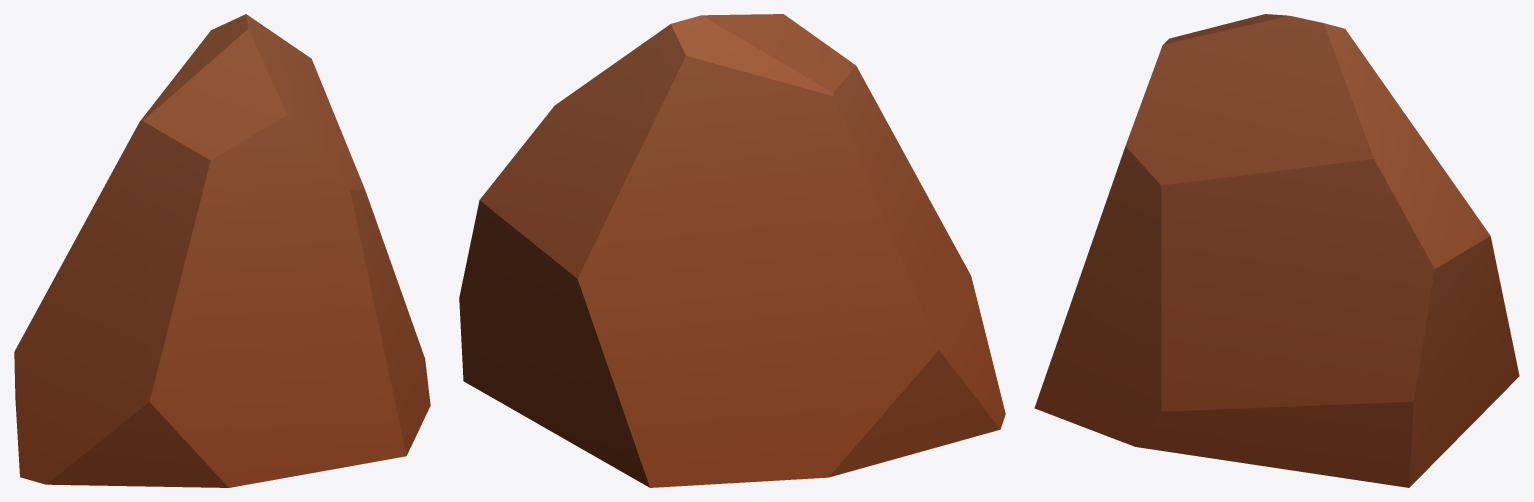
The model's file is rock07.fbx.
3 views of the same model, side by side, from view 1: azimuth 30°, elevation 25°; view 2: azimuth 150°, elevation 25°; view 3: azimuth 270°, elevation 25° (orthographic). The views are drawn at different scales.
Visible parts, largest first — view 1: Rock07; view 2: Rock07; view 3: Rock07.
Boxes of the visible parts, x1,y1,x2,y2 form: Rock07: (14, 14, 430, 487); Rock07: (459, 14, 1005, 487); Rock07: (1034, 14, 1519, 487).
Bounding box in the file's own units: 144 × 115 × 130.
